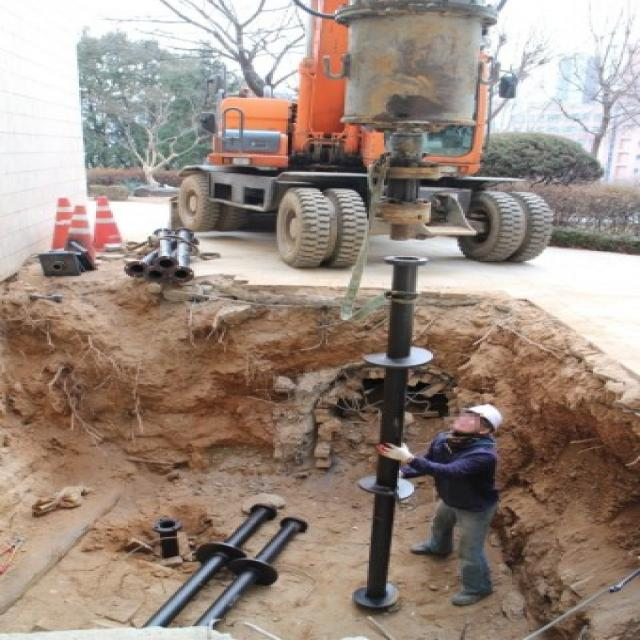pile: (353, 256, 433, 613), (141, 504, 278, 628), (193, 516, 309, 626)
